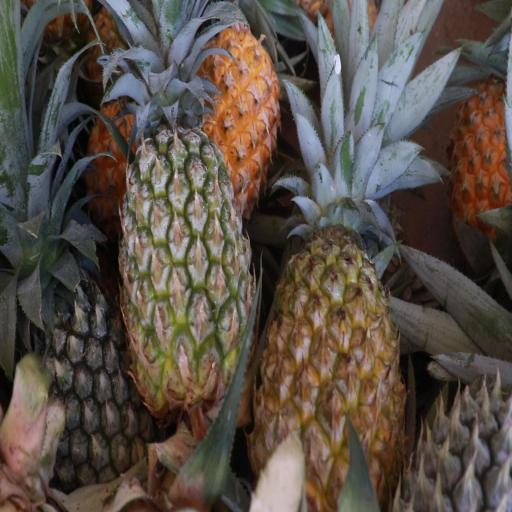------------------------------: (120, 124, 250, 394)
Pineapple - v8 v1: (254, 179, 404, 512), (134, 16, 281, 155), (446, 76, 512, 217)
